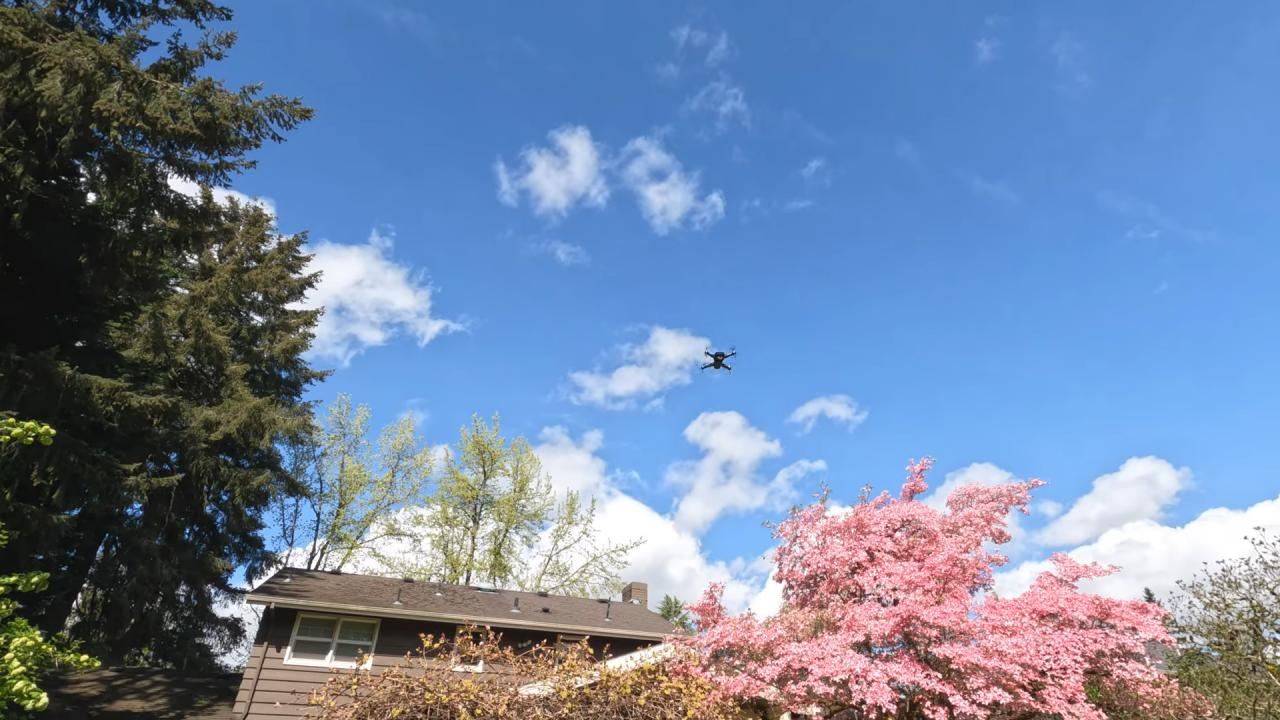Drone: (681, 335, 748, 382)
